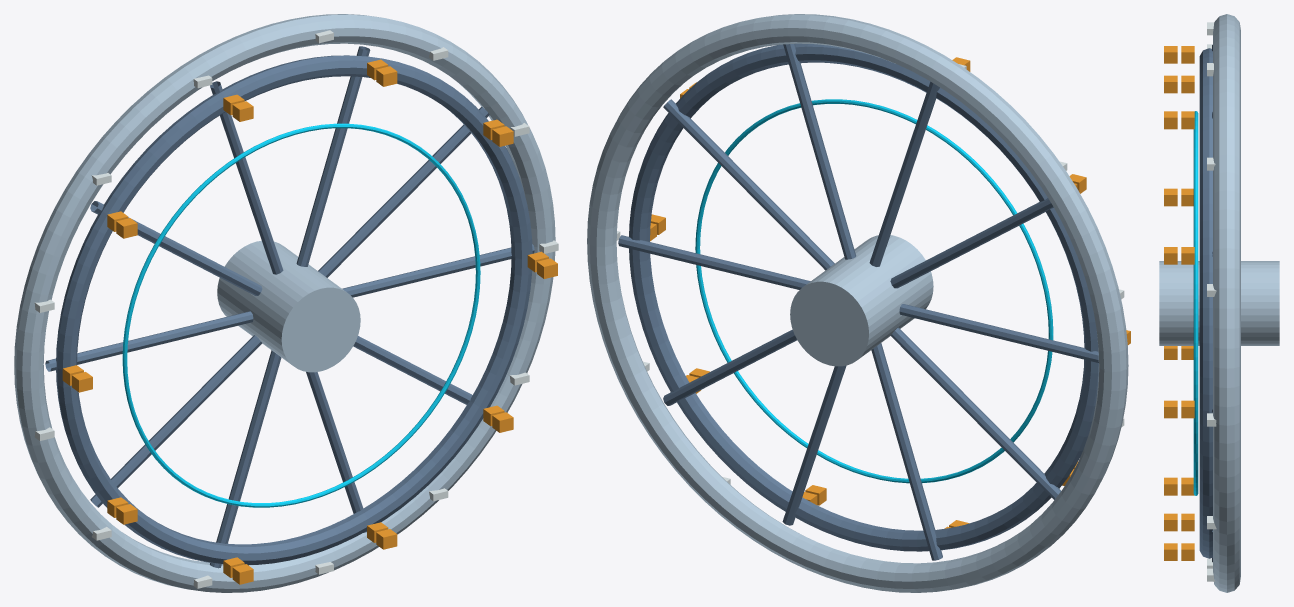
Rendered from 02_L89_OrbitalStationHabitatExterior.fbx.
3 renders of one model, left to right at view 1: azimuth 30°, elevation 25°; view 2: azimuth 150°, elevation 25°; view 3: azimuth 270°, elevation 25°, orthographic. The views are drawn at different scales.
Visible parts, largest first — view 1: L87_OrbitalStationHabitatExterior_Part_0000, L87_OrbitalStationHabitatExterior_Part_0001, L87_OrbitalStationHabitatExterior_Part_0002, L87_OrbitalStationHabitatExterior_Part_0003, L87_OrbitalStationHabitatExterior_Part_0005; view 2: L87_OrbitalStationHabitatExterior_Part_0000, L87_OrbitalStationHabitatExterior_Part_0001, L87_OrbitalStationHabitatExterior_Part_0002, L87_OrbitalStationHabitatExterior_Part_0003; view 3: L87_OrbitalStationHabitatExterior_Part_0000, L87_OrbitalStationHabitatExterior_Part_0001, L87_OrbitalStationHabitatExterior_Part_0003, L87_OrbitalStationHabitatExterior_Part_0002, L87_OrbitalStationHabitatExterior_Part_0005, L87_OrbitalStationHabitatExterior_Part_0004.
Part boxes in pixels (x1,y1,x2,y2): L87_OrbitalStationHabitatExterior_Part_0000: [14, 14, 555, 592]; L87_OrbitalStationHabitatExterior_Part_0001: [45, 46, 534, 568]; L87_OrbitalStationHabitatExterior_Part_0002: [122, 123, 480, 507]; L87_OrbitalStationHabitatExterior_Part_0003: [62, 59, 557, 584]; L87_OrbitalStationHabitatExterior_Part_0005: [34, 30, 558, 588]; L87_OrbitalStationHabitatExterior_Part_0000: [587, 14, 1128, 592]; L87_OrbitalStationHabitatExterior_Part_0001: [618, 43, 1098, 560]; L87_OrbitalStationHabitatExterior_Part_0002: [695, 99, 1053, 483]; L87_OrbitalStationHabitatExterior_Part_0003: [650, 57, 1130, 528]; L87_OrbitalStationHabitatExterior_Part_0000: [1159, 14, 1279, 592]; L87_OrbitalStationHabitatExterior_Part_0001: [1199, 44, 1212, 562]; L87_OrbitalStationHabitatExterior_Part_0003: [1164, 46, 1194, 560]; L87_OrbitalStationHabitatExterior_Part_0002: [1193, 111, 1198, 495]; L87_OrbitalStationHabitatExterior_Part_0005: [1207, 22, 1216, 581]; L87_OrbitalStationHabitatExterior_Part_0004: [1164, 513, 1177, 531].
Bounding box in the file's own units: 1156 × 1155 × 240.
